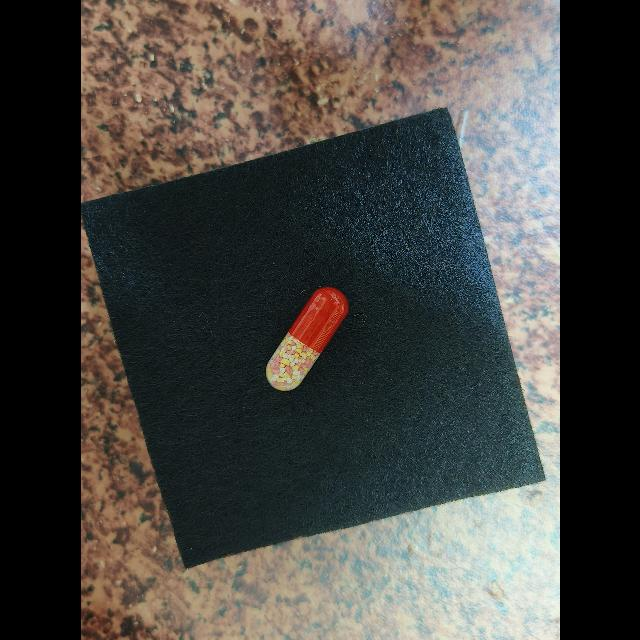Intact Capsule: (265, 287, 348, 391)
